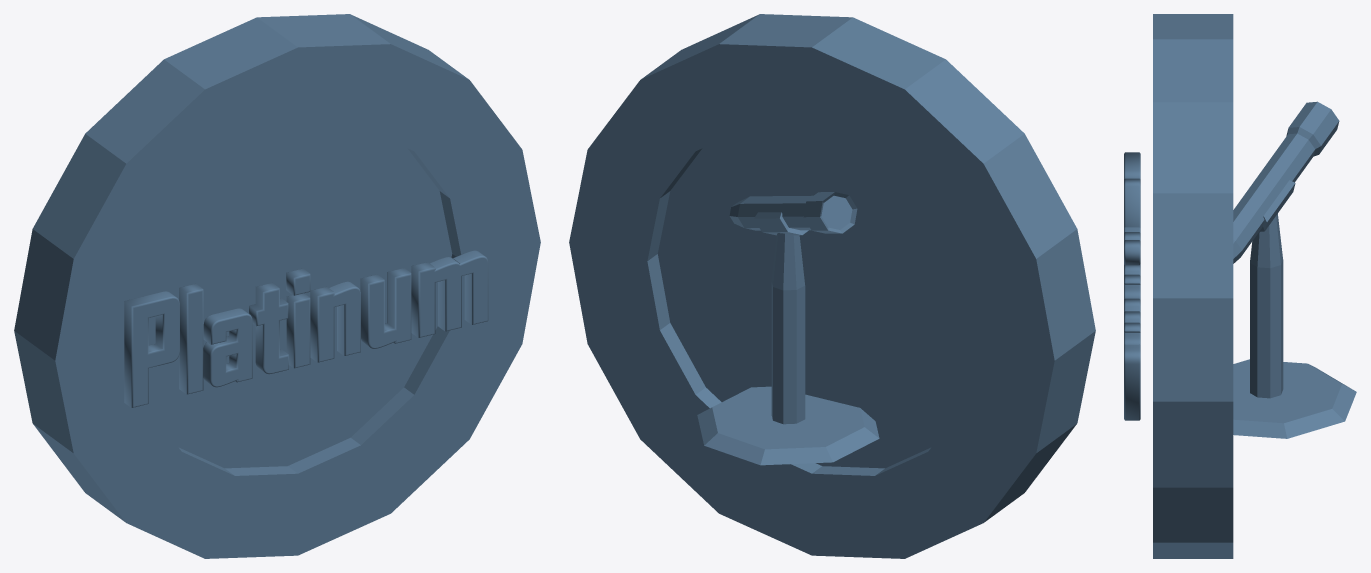
File: Platinum_Vocal.glb
3 renders of one model, left to right at view 1: azimuth 30°, elevation 25°; view 2: azimuth 150°, elevation 25°; view 3: azimuth 270°, elevation 25°, orthographic. The views are drawn at different scales.
Visible parts, largest first — view 1: Coin, Platinum Text; view 2: Coin, Microphone; view 3: Coin, Microphone, Platinum Text.
Boxes of the visible parts, <box> form: Coin: <box>14,14,540,558</box>; Platinum Text: <box>124,250,488,407</box>; Coin: <box>569,14,1095,558</box>; Microphone: <box>697,192,879,465</box>; Coin: <box>1153,14,1233,558</box>; Microphone: <box>1233,101,1356,438</box>; Platinum Text: <box>1124,152,1140,420</box>.
Bounding box in the file's own units: 0.987 × 0.987 × 0.4212.
